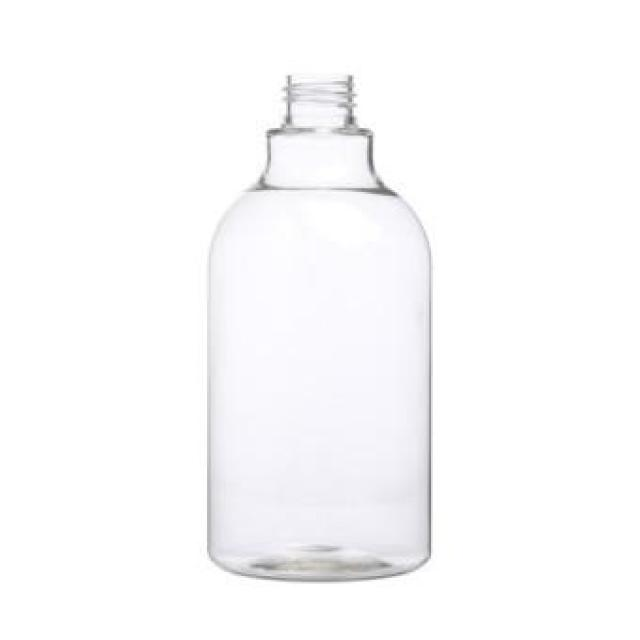bottle: (205, 67, 435, 573)
